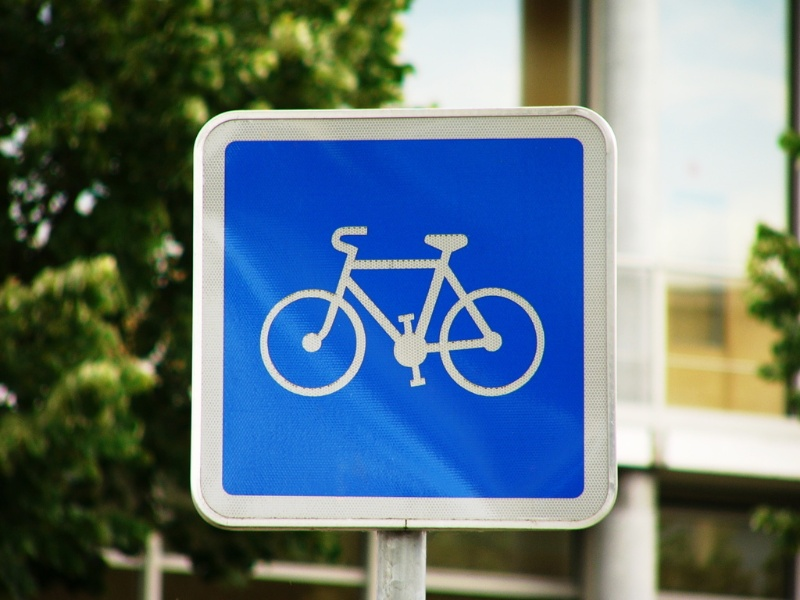cycle_route_ahead: (246, 214, 556, 413)
